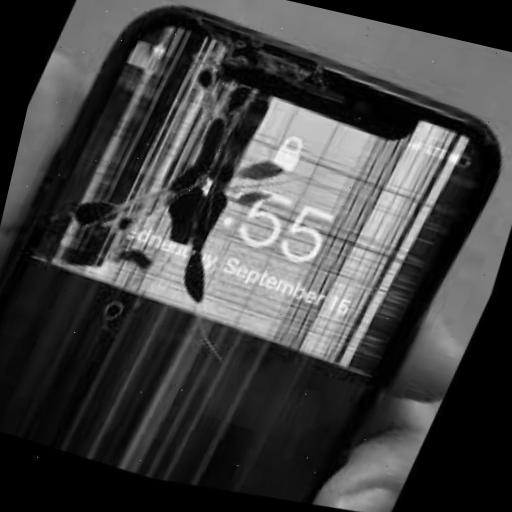phone: (0, 9, 503, 512)
